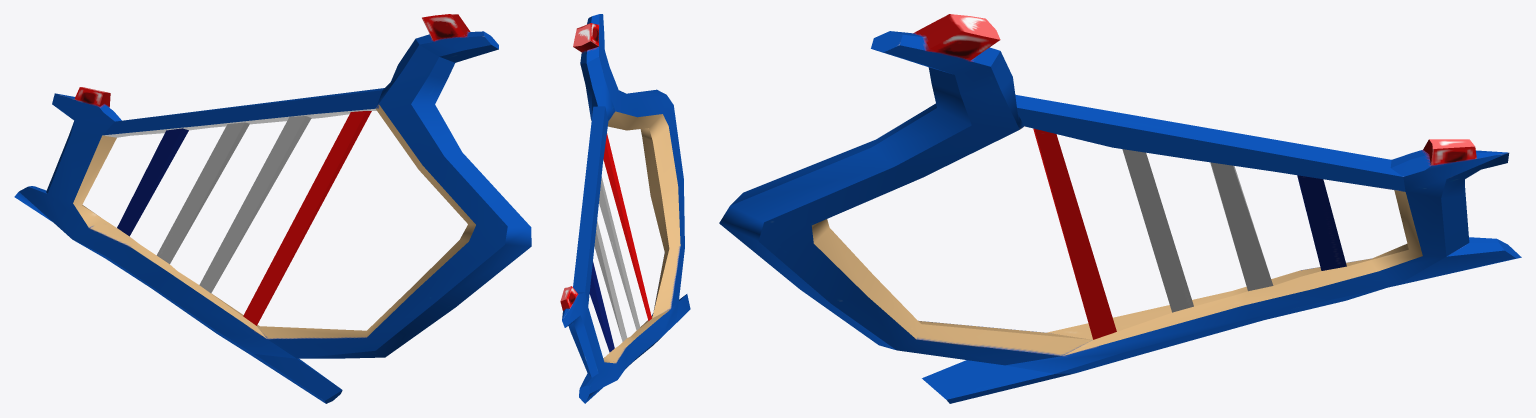
Rendered from Arpa2_000013.obj.
3 views of the same model, side by side, from view 1: azimuth 30°, elevation 25°; view 2: azimuth 150°, elevation 25°; view 3: azimuth 270°, elevation 25° (orthographic). The views are drawn at different scales.
Visible parts, largest first — view 1: a2_Arpa_1:pCube7; view 2: a2_Arpa_1:pCube7; view 3: a2_Arpa_1:pCube7.
Boxes of the visible parts, bbox=[...] form: a2_Arpa_1:pCube7: bbox=[14, 14, 531, 403]; a2_Arpa_1:pCube7: bbox=[560, 14, 690, 403]; a2_Arpa_1:pCube7: bbox=[719, 14, 1521, 403].
Bounding box in the file's own units: 6.09 × 8.75 × 13.73.
